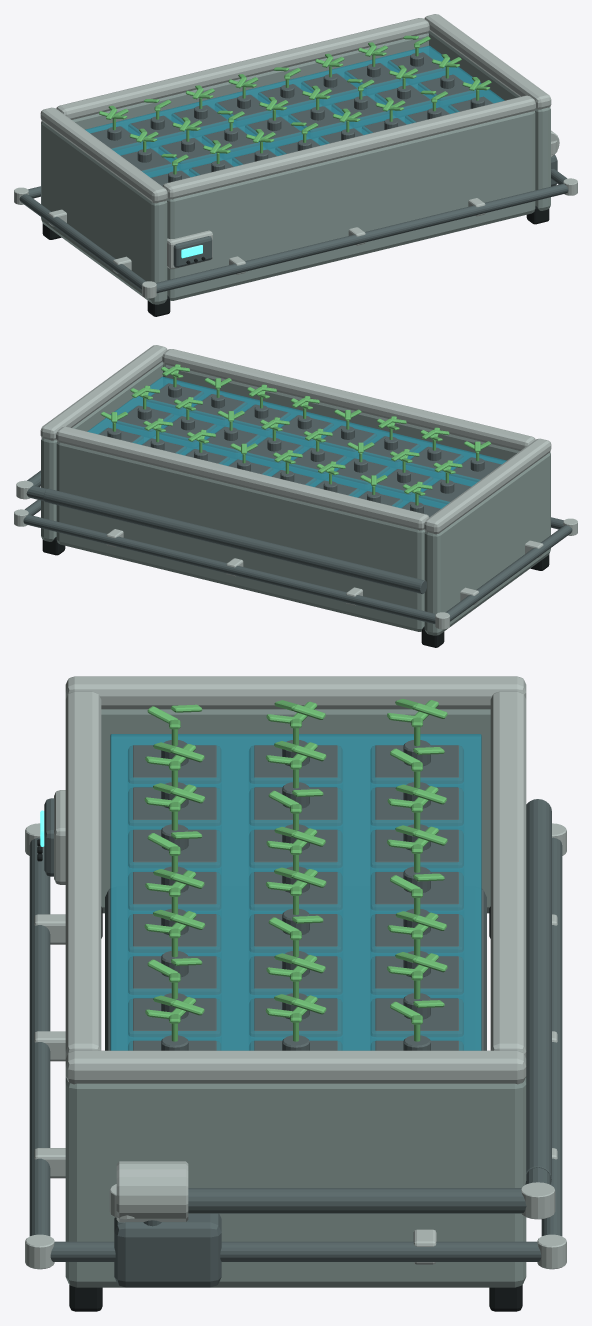
Rendered from Grand bassin hydroponique.glb.
3 views of the same model, one above another, from view 1: azimuth 30°, elevation 25°; view 2: azimuth 150°, elevation 25°; view 3: azimuth 270°, elevation 25° (orthographic). The views are drawn at different scales.
Parts seen in each view (by area): view 1: 16_large_hydroponic_basin_Wall_Front, 16_large_hydroponic_basin_Wall_Left, 16_large_hydroponic_basin_Water_Surface, 16_large_hydroponic_basin_Top_Rim_Front, 16_large_hydroponic_basin_Top_Rim_Rear, 16_large_hydroponic_basin_Perimeter_Front, 16_large_hydroponic_basin_Wall_Rear, 16_large_hydroponic_basin_Top_Rim_Left, 16_large_hydroponic_basin_Top_Rim_Right, 16_large_hydroponic_basin_Wall_Right, 16_large_hydroponic_basin_Perimeter_Left, 16_large_hydroponic_basin_Control_Housing (+17 smaller); view 2: 16_large_hydroponic_basin_Wall_Rear, 16_large_hydroponic_basin_Wall_Left, 16_large_hydroponic_basin_Water_Surface, 16_large_hydroponic_basin_Top_Rim_Rear, 16_large_hydroponic_basin_Top_Rim_Front, 16_large_hydroponic_basin_Rear_Manifold, 16_large_hydroponic_basin_Perimeter_Rear, 16_large_hydroponic_basin_Wall_Front, 16_large_hydroponic_basin_Top_Rim_Left, 16_large_hydroponic_basin_Top_Rim_Right, 16_large_hydroponic_basin_Wall_Right, 16_large_hydroponic_basin_Perimeter_Left (+16 smaller); view 3: 16_large_hydroponic_basin_Wall_Right, 16_large_hydroponic_basin_Water_Surface, 16_large_hydroponic_basin_Top_Rim_Right, 16_large_hydroponic_basin_Top_Rim_Left, 16_large_hydroponic_basin_Top_Rim_Front, 16_large_hydroponic_basin_Top_Rim_Rear, 16_large_hydroponic_basin_Wall_Left, 16_large_hydroponic_basin_Rear_Manifold, 16_large_hydroponic_basin_Circulation_Loop_Segment_2, 16_large_hydroponic_basin_Perimeter_Right, 16_large_hydroponic_basin_Perimeter_Front, 16_large_hydroponic_basin_Pump_Mount (+31 smaller).
Part boxes in pixels (x1,y1,x2,y2): 16_large_hydroponic_basin_Wall_Front: (166, 111, 535, 300); 16_large_hydroponic_basin_Wall_Left: (41, 121, 167, 304); 16_large_hydroponic_basin_Water_Surface: (85, 45, 504, 177); 16_large_hydroponic_basin_Top_Rim_Front: (162, 95, 535, 199); 16_large_hydroponic_basin_Top_Rim_Rear: (56, 18, 429, 119); 16_large_hydroponic_basin_Perimeter_Front: (156, 183, 568, 293); 16_large_hydroponic_basin_Wall_Rear: (72, 33, 428, 129); 16_large_hydroponic_basin_Top_Rim_Left: (40, 107, 167, 203); 16_large_hydroponic_basin_Top_Rim_Right: (424, 14, 551, 109); 16_large_hydroponic_basin_Wall_Right: (428, 30, 550, 210); 16_large_hydroponic_basin_Perimeter_Left: (19, 194, 146, 290); 16_large_hydroponic_basin_Control_Housing: (173, 236, 212, 267); 16_large_hydroponic_basin_Wall_Rear: (56, 442, 425, 631); 16_large_hydroponic_basin_Wall_Left: (424, 452, 550, 635); 16_large_hydroponic_basin_Water_Surface: (87, 376, 506, 508); 16_large_hydroponic_basin_Top_Rim_Rear: (56, 426, 429, 530); 16_large_hydroponic_basin_Top_Rim_Front: (162, 349, 535, 450); 16_large_hydroponic_basin_Rear_Manifold: (43, 488, 426, 593); 16_large_hydroponic_basin_Perimeter_Rear: (23, 514, 435, 624); 16_large_hydroponic_basin_Wall_Front: (163, 364, 519, 460); 16_large_hydroponic_basin_Top_Rim_Left: (424, 438, 551, 534); 16_large_hydroponic_basin_Top_Rim_Right: (40, 345, 167, 440); 16_large_hydroponic_basin_Wall_Right: (41, 361, 163, 541); 16_large_hydroponic_basin_Perimeter_Left: (445, 525, 572, 621); 16_large_hydroponic_basin_Wall_Right: (65, 1078, 526, 1287); 16_large_hydroponic_basin_Water_Surface: (110, 734, 481, 1050); 16_large_hydroponic_basin_Top_Rim_Right: (65, 1050, 526, 1084); 16_large_hydroponic_basin_Top_Rim_Left: (65, 676, 526, 709); 16_large_hydroponic_basin_Top_Rim_Front: (65, 691, 101, 1058); 16_large_hydroponic_basin_Top_Rim_Rear: (490, 691, 526, 1058); 16_large_hydroponic_basin_Wall_Left: (101, 709, 490, 913); 16_large_hydroponic_basin_Rear_Manifold: (526, 799, 551, 1183); 16_large_hydroponic_basin_Circulation_Loop_Segment_2: (188, 1188, 526, 1213); 16_large_hydroponic_basin_Perimeter_Right: (50, 1241, 541, 1261); 16_large_hydroponic_basin_Perimeter_Front: (29, 837, 50, 1235); 16_large_hydroponic_basin_Pump_Mount: (114, 1213, 221, 1287).
Bounding box in the file's own units: 3.94 × 1.16 × 2.12.
